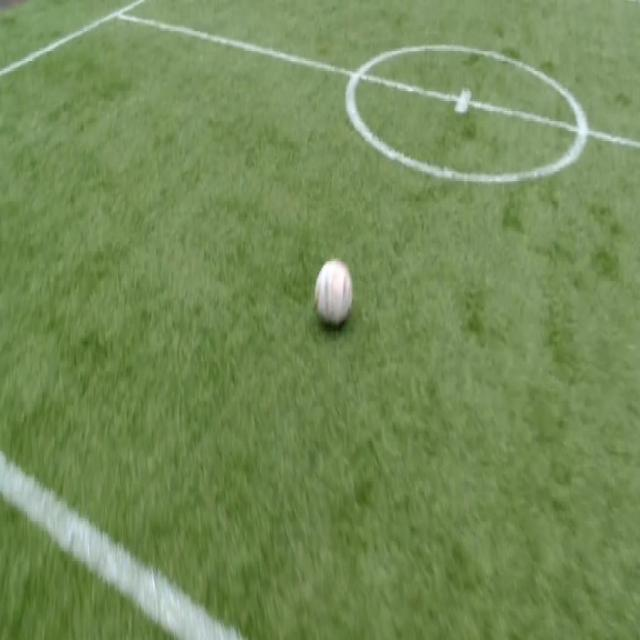ball: (314, 258, 354, 326)
